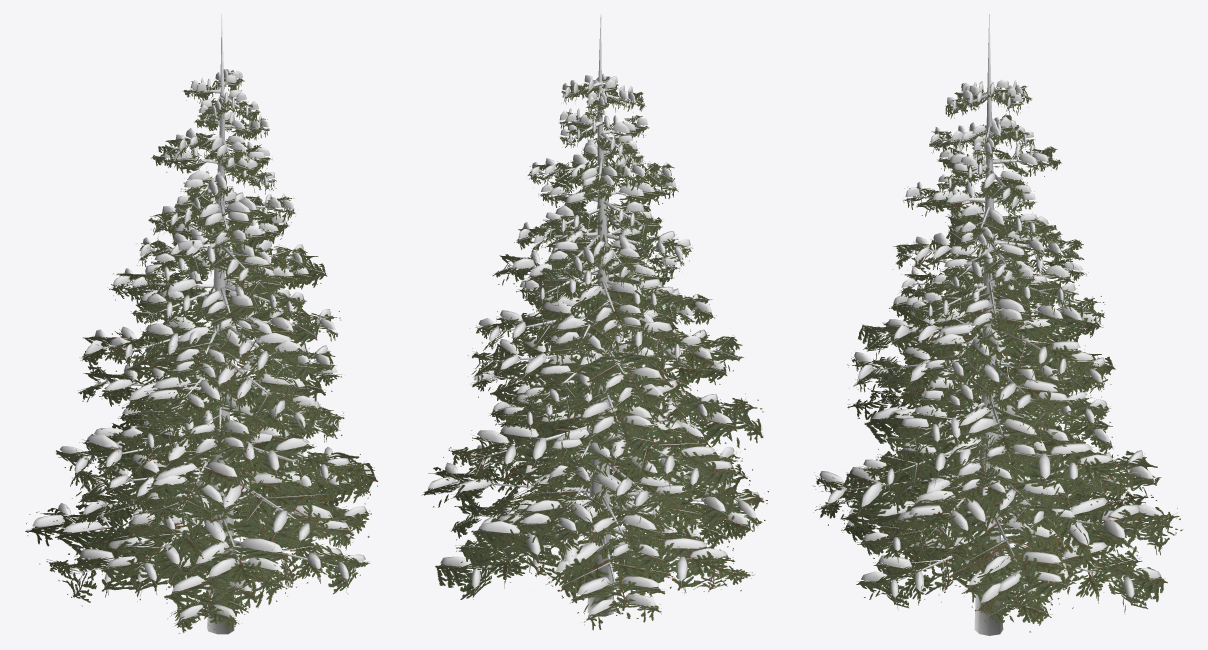
Rendered from CW_FirVolume_1.fbx.
3 views of the same model, side by side, from view 1: azimuth 30°, elevation 25°; view 2: azimuth 150°, elevation 25°; view 3: azimuth 270°, elevation 25° (orthographic). The views are drawn at different scales.
Parts seen in each view (by area): view 1: CW_FirVolume_1_Needles, CW_FirVolume_1_Snow, CW_FirVolume_1_Wood; view 2: CW_FirVolume_1_Needles, CW_FirVolume_1_Snow, CW_FirVolume_1_Wood; view 3: CW_FirVolume_1_Needles, CW_FirVolume_1_Snow, CW_FirVolume_1_Wood.
Boxes of the visible parts, left/top/right/bottom form: CW_FirVolume_1_Needles: left=25, top=70, right=378, bottom=633; CW_FirVolume_1_Snow: left=32, top=69, right=372, bottom=619; CW_FirVolume_1_Wood: left=26, top=14, right=377, bottom=634; CW_FirVolume_1_Needles: left=422, top=76, right=768, bottom=630; CW_FirVolume_1_Snow: left=427, top=73, right=759, bottom=614; CW_FirVolume_1_Wood: left=423, top=14, right=762, bottom=619; CW_FirVolume_1_Needles: left=813, top=83, right=1182, bottom=632; CW_FirVolume_1_Snow: left=819, top=79, right=1162, bottom=602; CW_FirVolume_1_Wood: left=815, top=14, right=1177, bottom=635.
Size of the model in its own units: 5.11 by 9 by 5.18.
